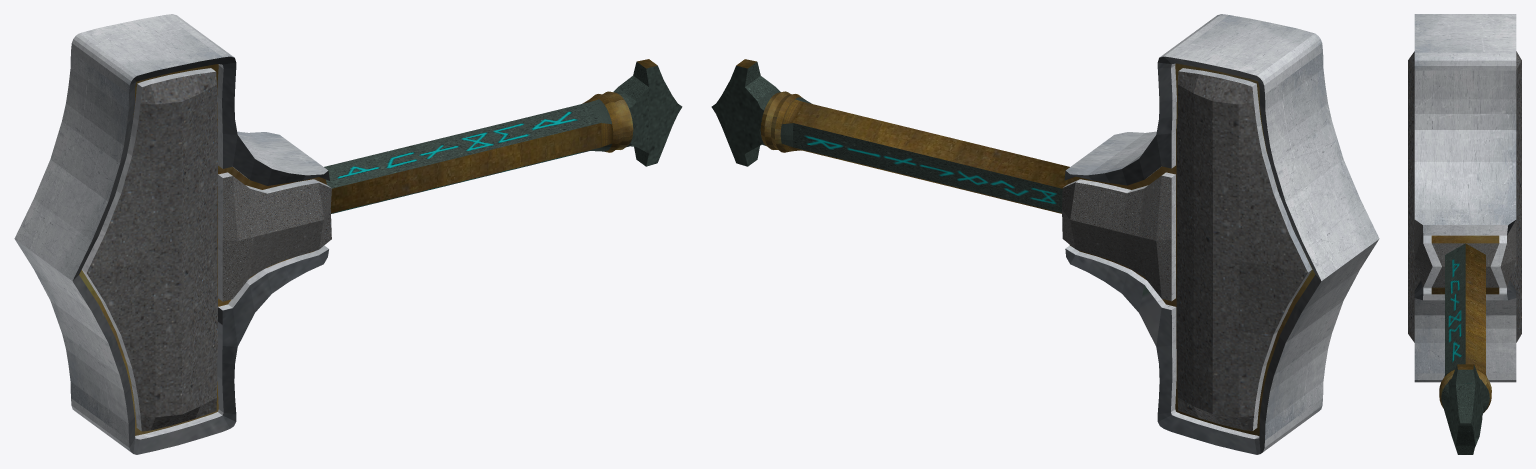
Rendered from Mjolnir.fbx.
The picture shows the model from 3 angles, left to right: view 1: azimuth 30°, elevation 25°; view 2: azimuth 150°, elevation 25°; view 3: azimuth 270°, elevation 25°; orthographic projection. The views are drawn at different scales.
Visible parts, largest first — view 1: ZomboidMjolnir; view 2: ZomboidMjolnir; view 3: ZomboidMjolnir.
Boxes of the visible parts, <box> form: ZomboidMjolnir: <box>14,14,682,454</box>; ZomboidMjolnir: <box>711,14,1379,454</box>; ZomboidMjolnir: <box>1408,14,1521,454</box>.
Bounding box in the file's own units: 0.4752 × 0.2714 × 0.0844.
